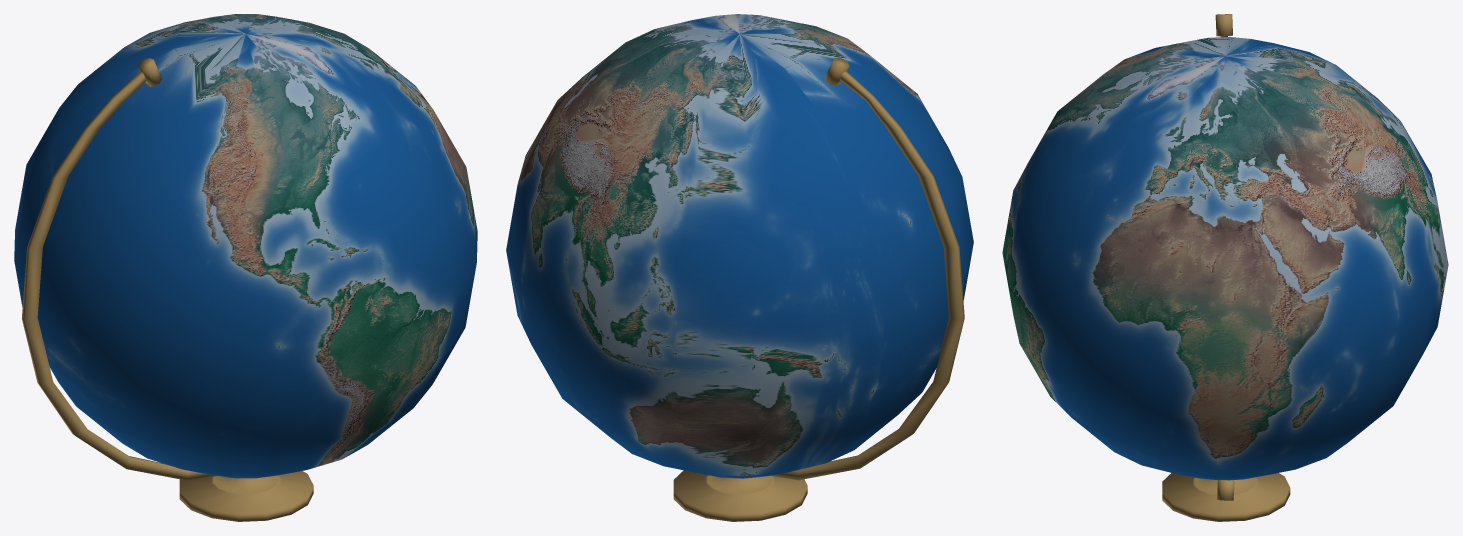
The model's file is globo.fbx.
3 renders of one model, left to right at view 1: azimuth 30°, elevation 25°; view 2: azimuth 150°, elevation 25°; view 3: azimuth 270°, elevation 25°, orthographic. The views are drawn at different scales.
Parts seen in each view (by area): view 1: Globo, base lateral, base do pé.001; view 2: Globo, base lateral, base do pé.001; view 3: Globo, base do pé.001, base lateral.
Boxes of the visible parts, x1,y1,x2,y2 form: Globo: [14, 14, 477, 478]; base lateral: [22, 58, 216, 480]; base do pé.001: [179, 471, 313, 521]; Globo: [506, 14, 973, 478]; base lateral: [771, 57, 964, 480]; base do pé.001: [673, 470, 807, 521]; Globo: [1002, 37, 1448, 480]; base do pé.001: [1162, 473, 1290, 521]; base lateral: [1215, 14, 1234, 500].
Bounding box in the file's own units: 0.7892 × 0.8148 × 0.7511.
2 materials, 1 textured.
